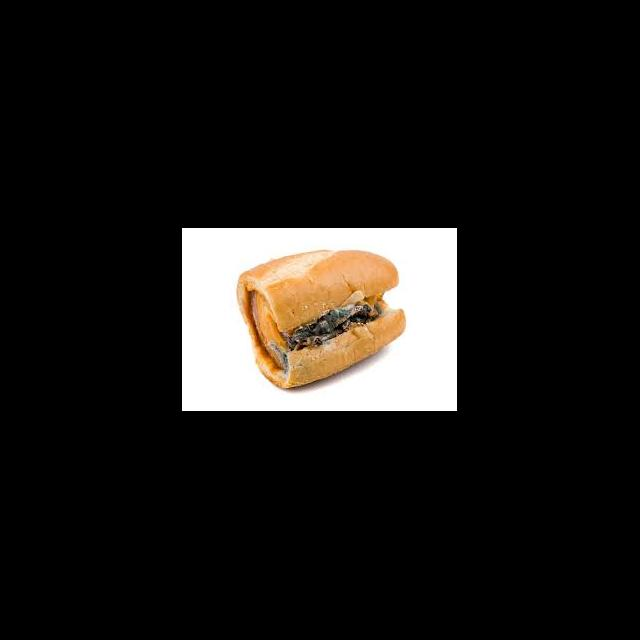food_waste: (218, 239, 420, 406)
